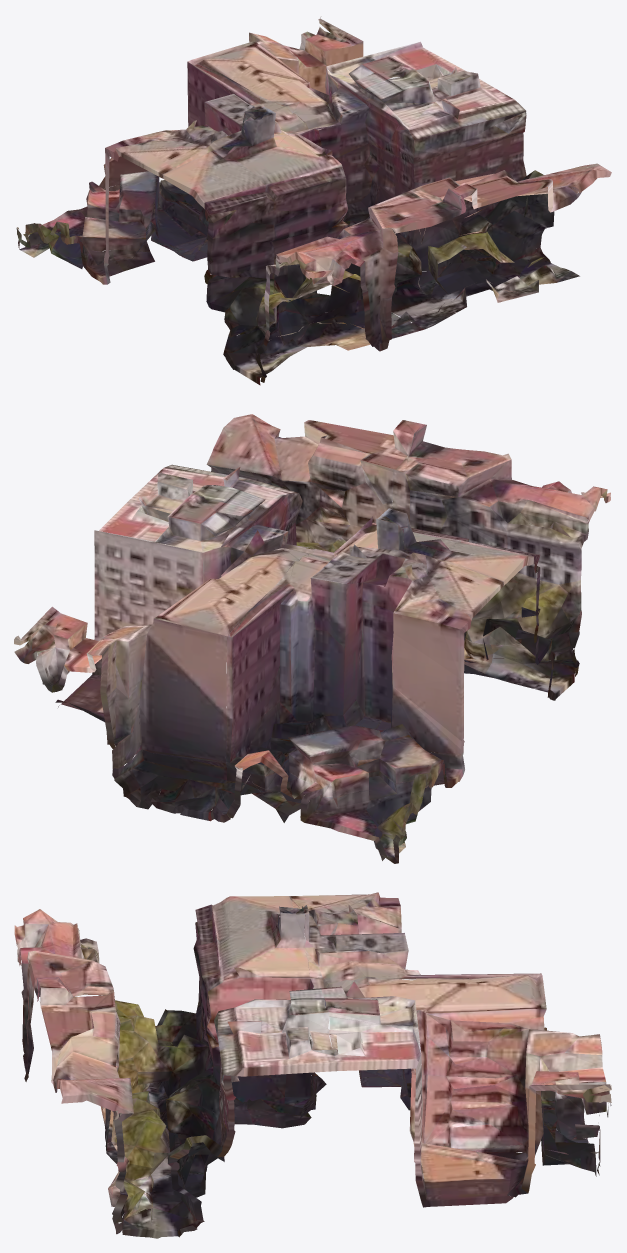
3 renders of one model, top to bottom at view 1: azimuth 30°, elevation 25°; view 2: azimuth 150°, elevation 25°; view 3: azimuth 270°, elevation 25°, orthographic. The views are drawn at different scales.
Visible parts, largest first — view 1: Mesh_0; view 2: Mesh_0; view 3: Mesh_0.
Part boxes in pixels (bbox=[...]): Mesh_0: bbox=[16, 16, 611, 385]; Mesh_0: bbox=[14, 414, 610, 863]; Mesh_0: bbox=[14, 892, 611, 1238].
Size of the model in its own units: 67.16 by 34.43 by 82.65.
1 material, 1 textured.
